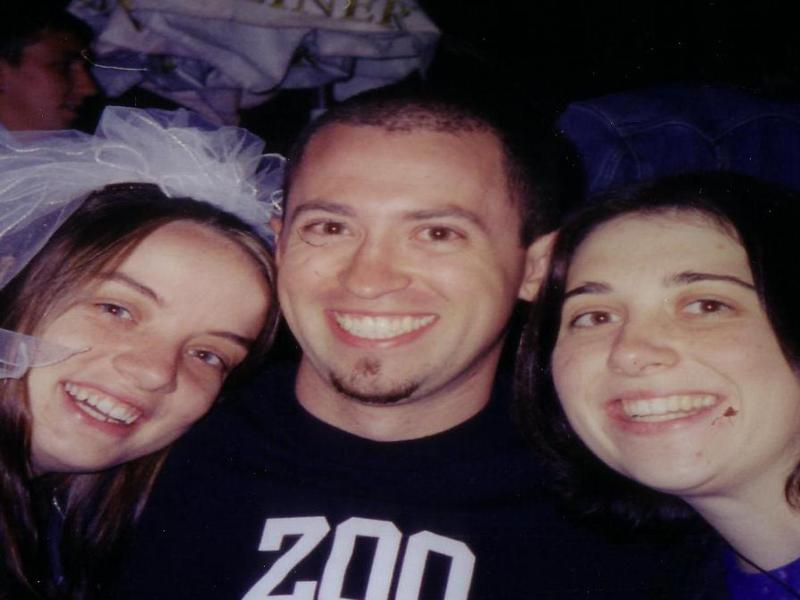person: (106, 63, 689, 600), (1, 120, 276, 599), (529, 132, 800, 596)
